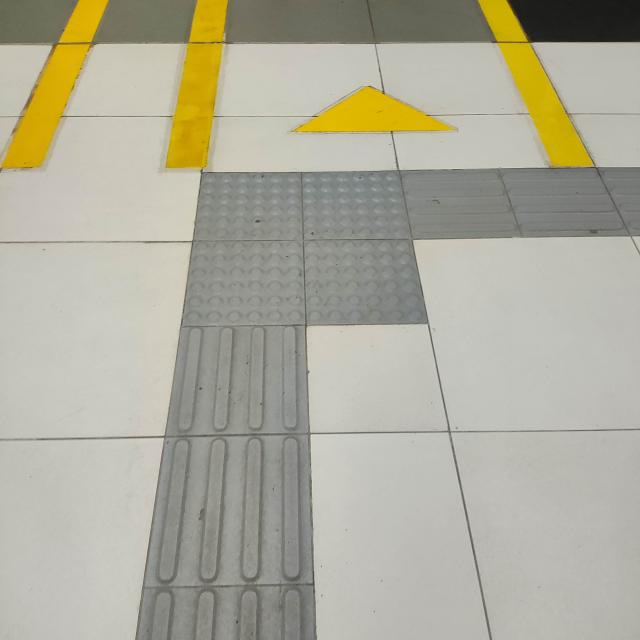kanan: (129, 136, 562, 344)
